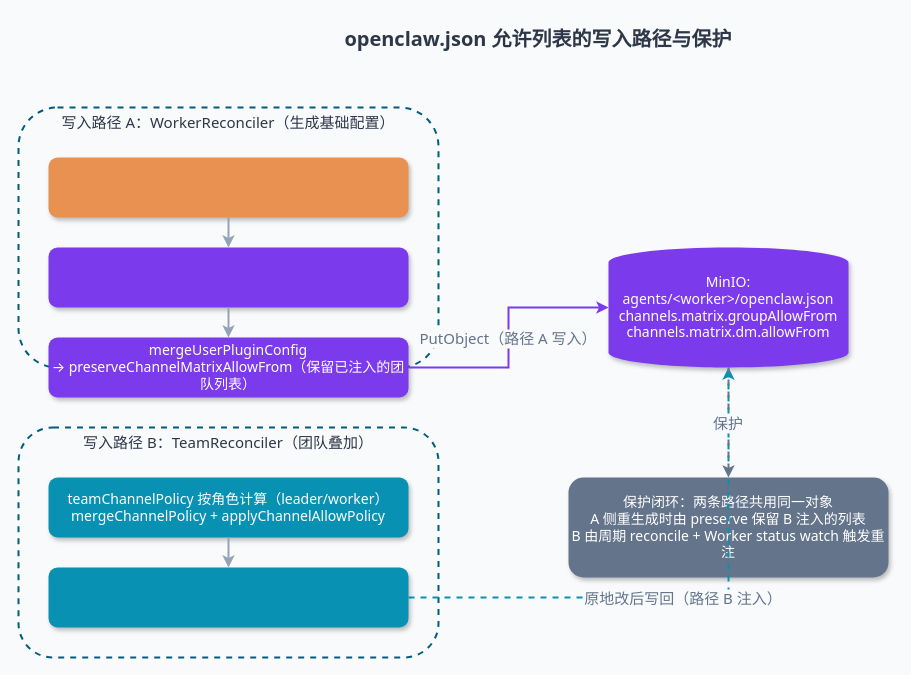
Some shapes in this 911 by 675 pixel diagram are drawn without their labels. The shapes that lost their labels are listed below. From the top down, each one's centre as x and y in pixels, then its label:
[229,188]: ReconcileMemberConfig → Deployer.DeployWorkerConfig
[229,278]: GenerateOpenClawConfig 默认允许列表 [@manager, @admin]（独立语义）
[229,598]: Deployer.InjectChannelPolicy 原地 patch groupAllowFrom / dm.allowFrom
